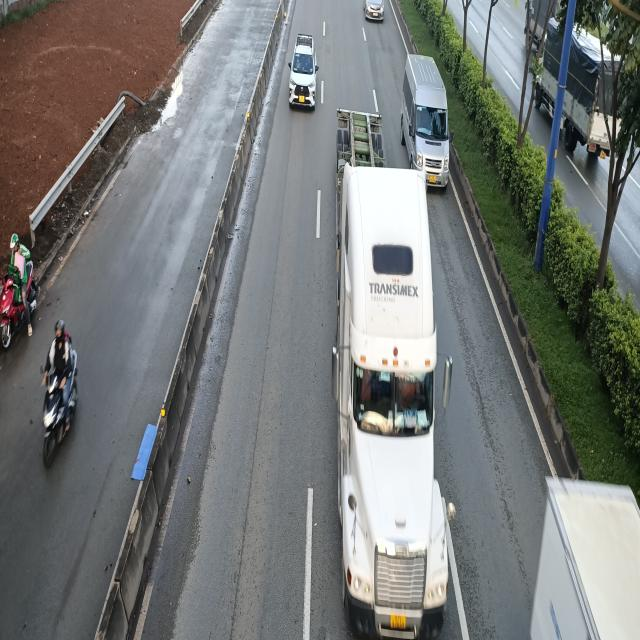car: (286, 34, 317, 110)
container: (330, 107, 454, 640)
van: (400, 56, 451, 192)
